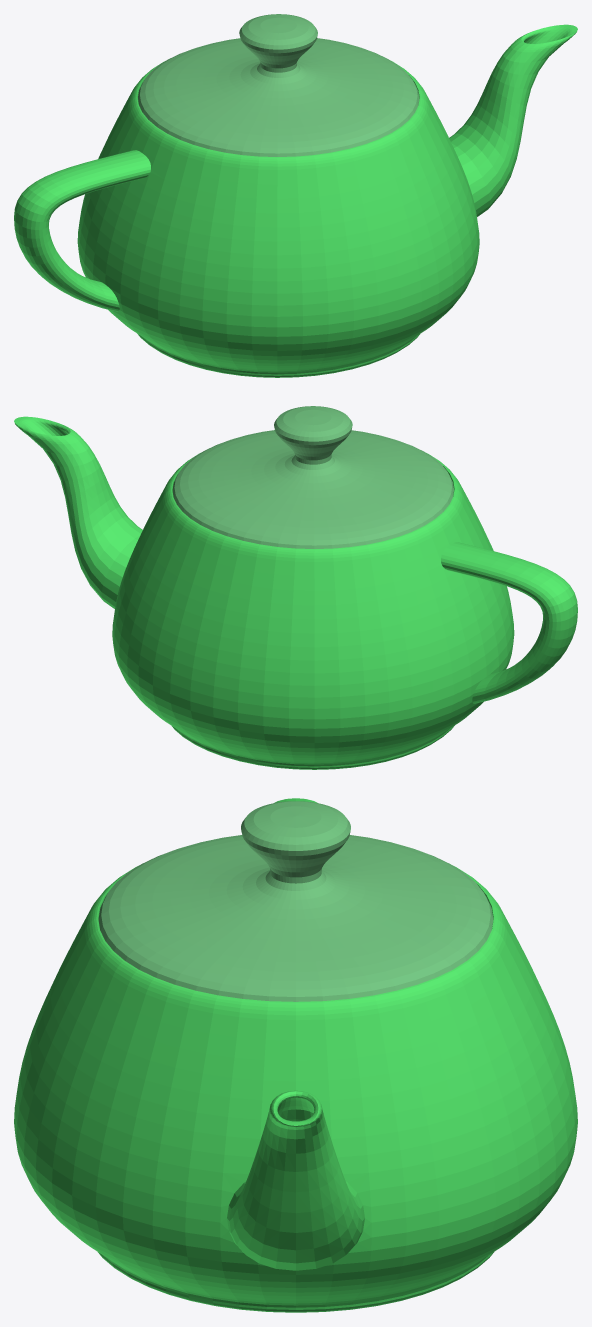
Rendered from teapot.gltf.
3 renders of one model, top to bottom at view 1: azimuth 30°, elevation 25°; view 2: azimuth 150°, elevation 25°; view 3: azimuth 270°, elevation 25°, orthographic. The views are drawn at different scales.
Parts seen in each view (by area): view 1: teapot; view 2: teapot; view 3: teapot.
Part boxes in pixels (box(x1,y1,x2,y2)): teapot: box(14, 14, 577, 377); teapot: box(14, 406, 577, 769); teapot: box(14, 798, 577, 1312).
Size of the model in its own units: 38.55 by 19.75 by 23.96.
